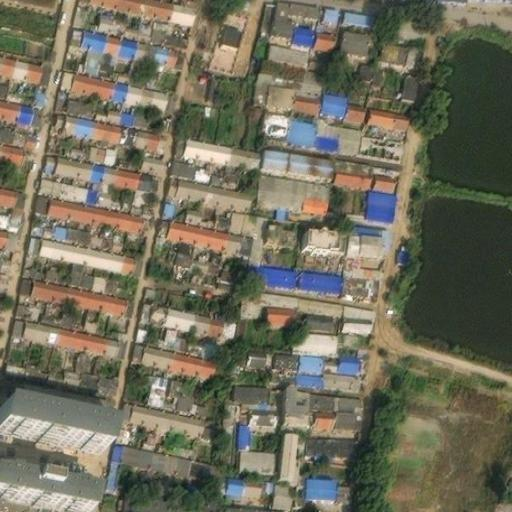building: (111, 437, 196, 471), (259, 169, 330, 206), (261, 142, 338, 169), (115, 489, 201, 512), (144, 367, 196, 405), (140, 297, 197, 327), (258, 53, 308, 83), (316, 116, 365, 146), (208, 176, 255, 207), (169, 406, 219, 434), (124, 397, 173, 425), (273, 0, 320, 29), (84, 242, 136, 268), (77, 283, 129, 309), (37, 233, 88, 259), (181, 131, 232, 157), (335, 151, 376, 183), (29, 274, 80, 299), (303, 430, 358, 453), (193, 307, 238, 335), (170, 169, 212, 199), (133, 34, 183, 59), (136, 321, 184, 347), (344, 221, 387, 250), (66, 67, 115, 92), (289, 326, 338, 351), (133, 338, 180, 364), (234, 376, 287, 399), (164, 214, 212, 239), (341, 246, 382, 275), (180, 329, 224, 355), (96, 8, 140, 34), (361, 129, 405, 155), (176, 347, 221, 372), (6, 354, 50, 379), (11, 53, 51, 80), (280, 428, 305, 471), (365, 99, 411, 122), (365, 183, 396, 216), (381, 34, 420, 60), (305, 472, 351, 494), (209, 223, 251, 247), (246, 208, 266, 258), (38, 261, 83, 283), (35, 188, 73, 213), (269, 36, 310, 59), (19, 314, 56, 339), (80, 269, 122, 291), (56, 108, 94, 132), (52, 321, 90, 345), (86, 328, 124, 352), (284, 380, 310, 415), (266, 78, 296, 108), (340, 271, 379, 294), (298, 292, 345, 311), (39, 171, 76, 195), (53, 216, 94, 237), (226, 470, 263, 493), (264, 301, 298, 326), (136, 16, 171, 40), (228, 140, 263, 164), (59, 93, 97, 115), (287, 114, 319, 140), (44, 147, 80, 170), (256, 286, 299, 305), (342, 24, 373, 50), (302, 264, 342, 284), (226, 203, 255, 230), (46, 362, 80, 385), (174, 156, 213, 176), (323, 350, 362, 370), (240, 445, 275, 467), (86, 137, 118, 161), (258, 259, 294, 280), (102, 28, 136, 50), (322, 367, 361, 386), (296, 308, 337, 326), (118, 120, 150, 143), (263, 104, 291, 130), (111, 76, 144, 98), (73, 22, 106, 44), (77, 368, 108, 391), (105, 455, 127, 487), (90, 115, 122, 137), (222, 502, 290, 512), (372, 161, 399, 186), (93, 200, 122, 223), (293, 82, 322, 105), (122, 106, 155, 126), (77, 154, 107, 176), (341, 311, 374, 331), (307, 221, 338, 242), (320, 86, 348, 109), (129, 164, 158, 186), (118, 205, 147, 227), (136, 149, 166, 170), (94, 100, 125, 120), (247, 406, 278, 426), (104, 159, 132, 181), (73, 178, 101, 200), (69, 195, 97, 217), (267, 217, 295, 239), (345, 4, 379, 22), (343, 297, 377, 315), (141, 82, 170, 103), (0, 180, 24, 205), (271, 477, 293, 503), (238, 405, 253, 443), (292, 18, 316, 41), (298, 348, 325, 368), (272, 346, 300, 365), (360, 59, 383, 81), (240, 291, 263, 313), (146, 126, 170, 147), (83, 41, 102, 67), (314, 25, 340, 44), (246, 343, 273, 361), (310, 404, 337, 422), (403, 67, 420, 95), (333, 391, 361, 408), (211, 163, 237, 181), (345, 96, 367, 117), (305, 62, 325, 85), (297, 366, 323, 383), (308, 389, 334, 406), (19, 97, 39, 119), (336, 406, 360, 424), (169, 243, 194, 260), (223, 18, 243, 39), (0, 202, 18, 224), (98, 183, 117, 203), (183, 199, 201, 220), (22, 84, 44, 101), (336, 223, 346, 243)
